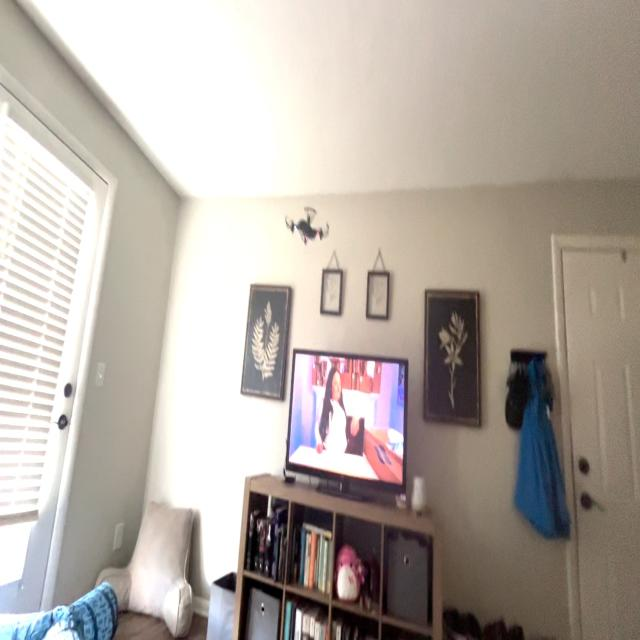drone: (278, 193, 334, 253)
